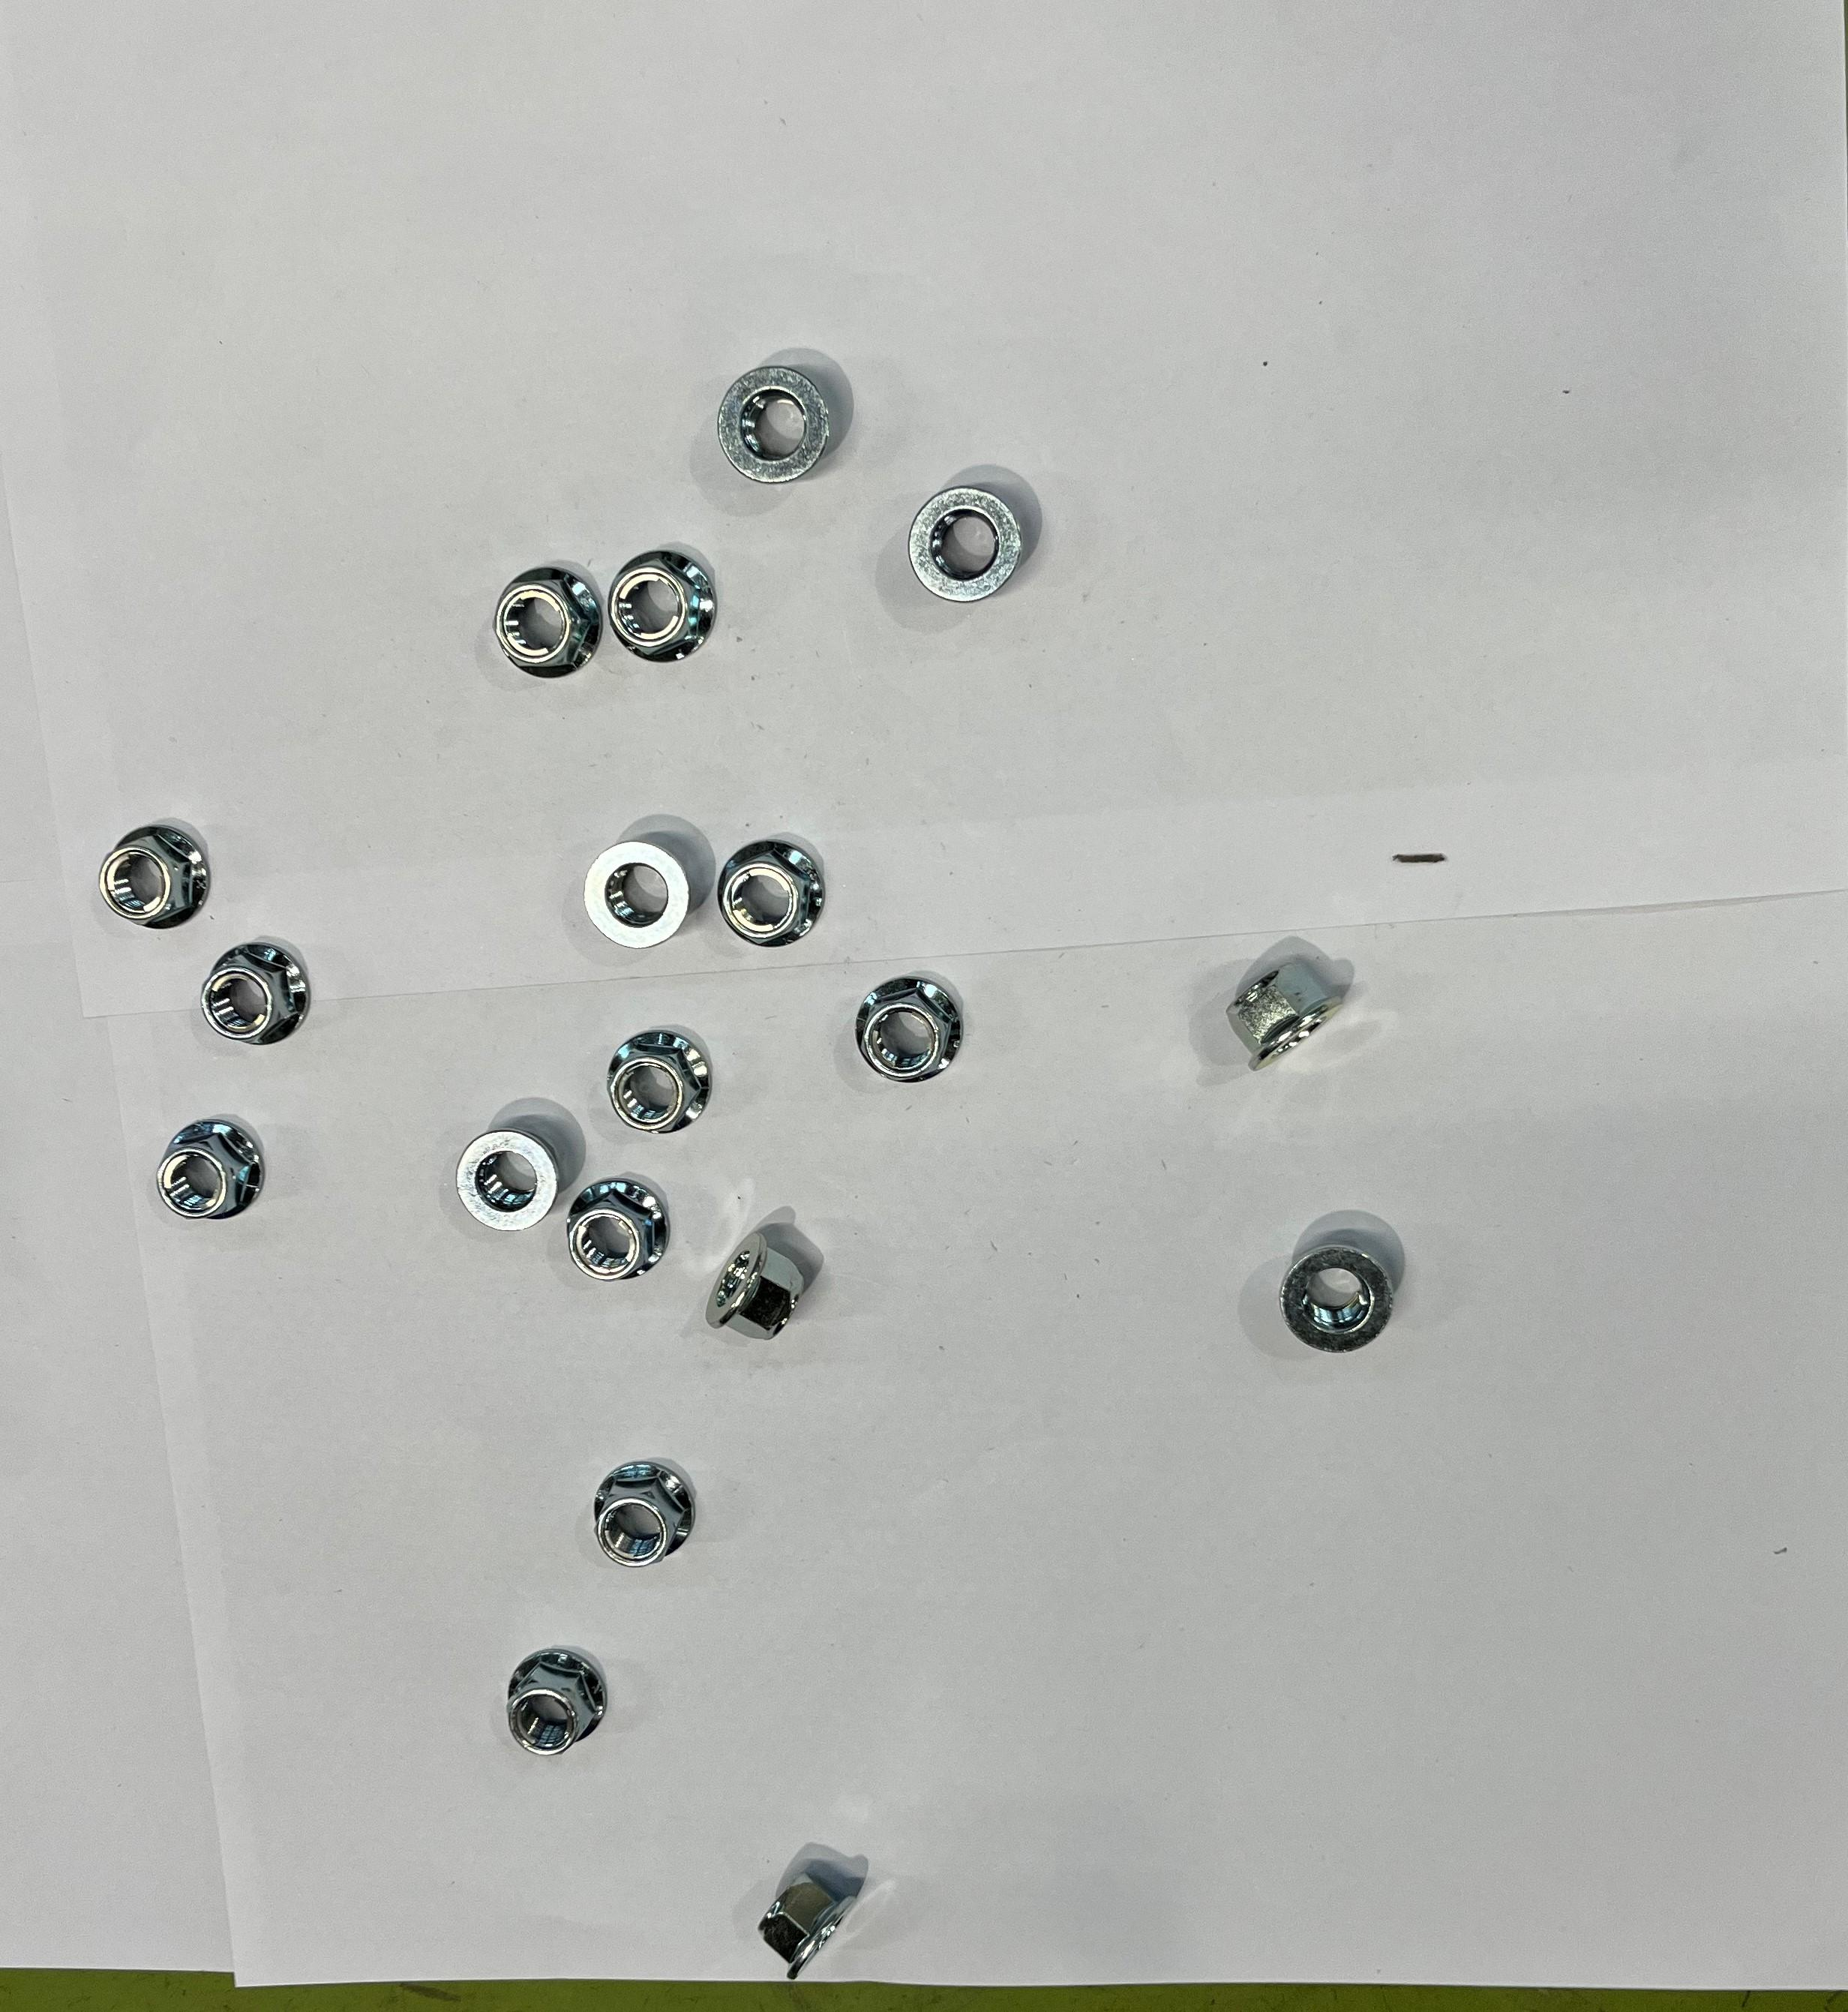Type B: (1230, 948, 1352, 1073), (911, 491, 1023, 606), (722, 365, 829, 485), (203, 943, 315, 1048), (596, 1458, 699, 1569), (708, 1229, 806, 1344), (608, 1027, 713, 1134), (610, 550, 709, 662), (718, 845, 825, 948), (585, 841, 688, 948), (569, 1172, 669, 1283), (102, 824, 207, 927), (508, 1647, 608, 1756), (1286, 1241, 1389, 1344), (158, 1120, 265, 1220), (497, 573, 597, 678), (862, 976, 960, 1083), (762, 1874, 857, 1980), (457, 1132, 559, 1230)
